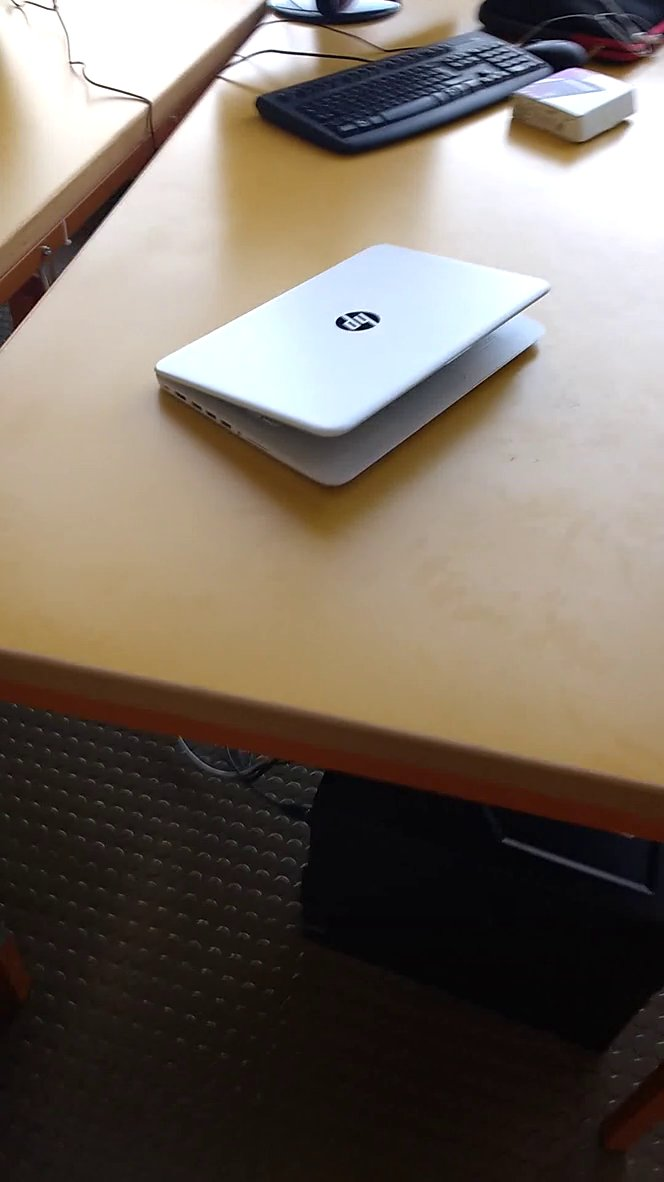laptop: (141, 241, 577, 497)
